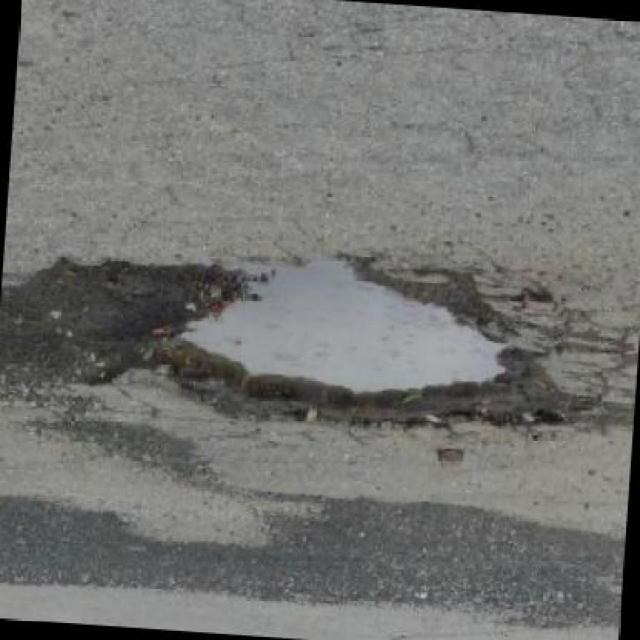pothole1: (139, 242, 576, 460)
